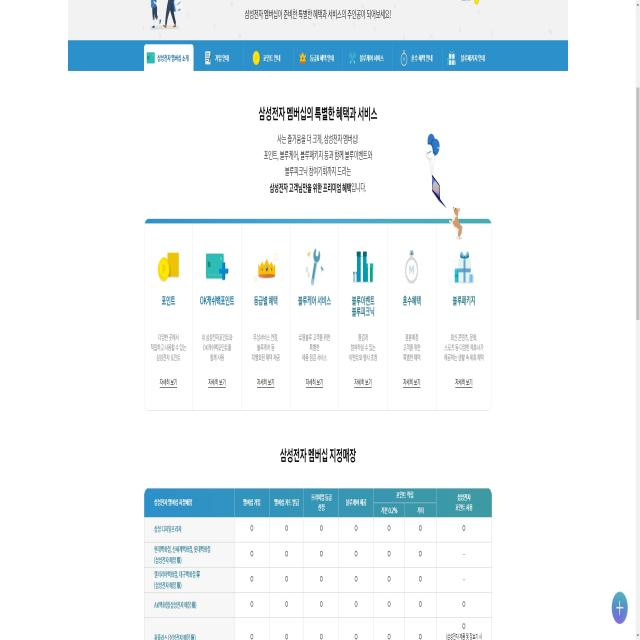tab-bar: (132, 37, 490, 77)
